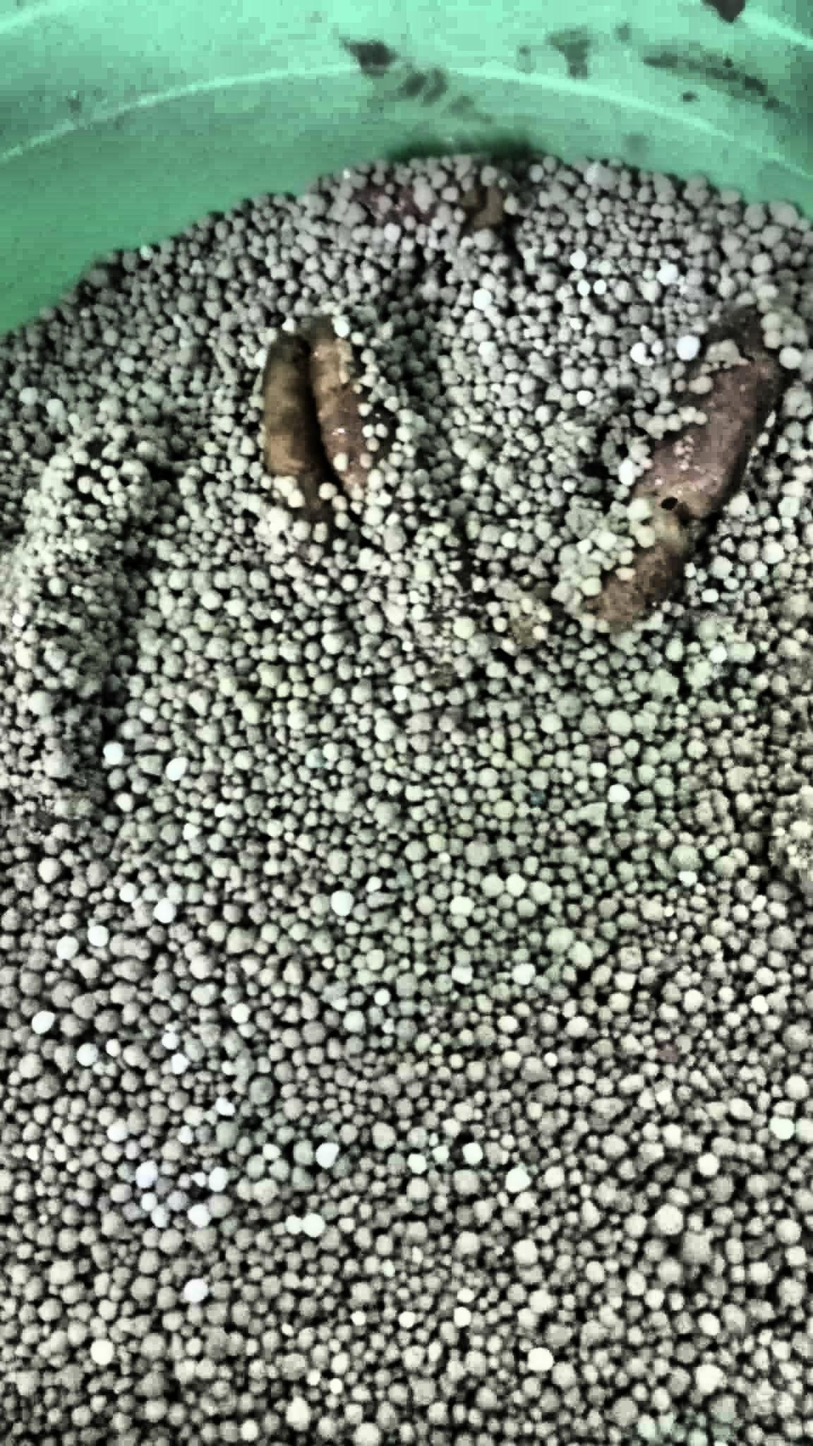poop: (0, 422, 155, 822)
